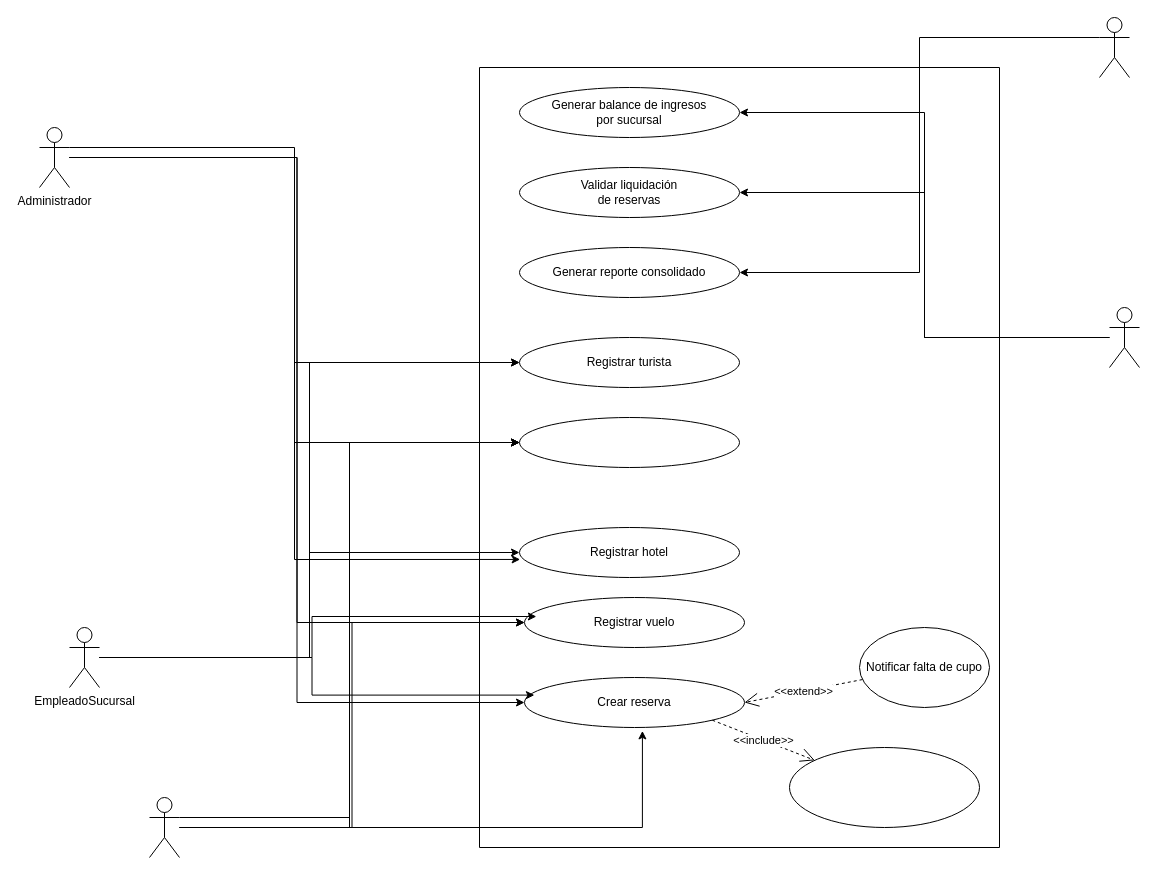
Some shapes in this 1174 by 896 pixel diagram are drawn without their labels. The shapes that lost their labels are listed below. From the top down, each one's centre as x and y in pixels, then its label:
pixel 1114 47: GerenteGeneral
pixel 1124 337: Contador
pixel 629 442: Registrar sucursal
pixel 884 787: Verificar disponibilidad
pixel 164 827: Turista
